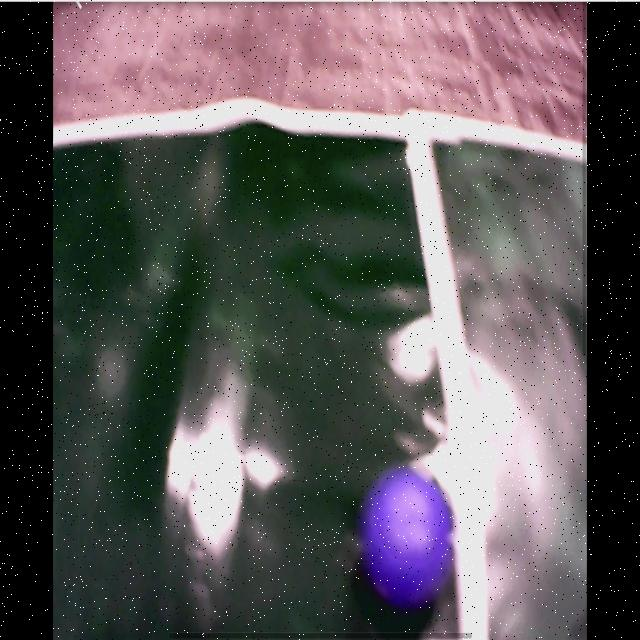ball: (365, 471, 452, 605)
